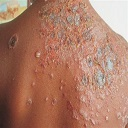Impetigo: (40, 1, 98, 49), (78, 37, 123, 92), (6, 33, 19, 49)
